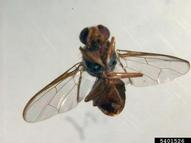Fruit fly: (31, 16, 172, 125)
